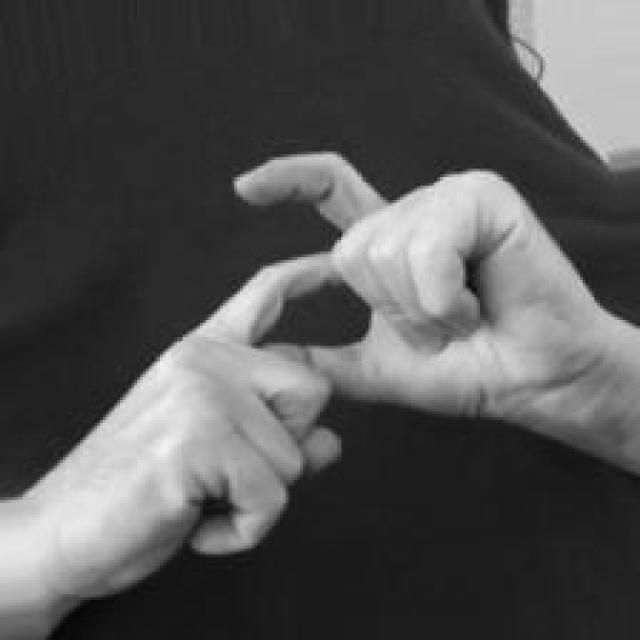G: (26, 149, 613, 640)
